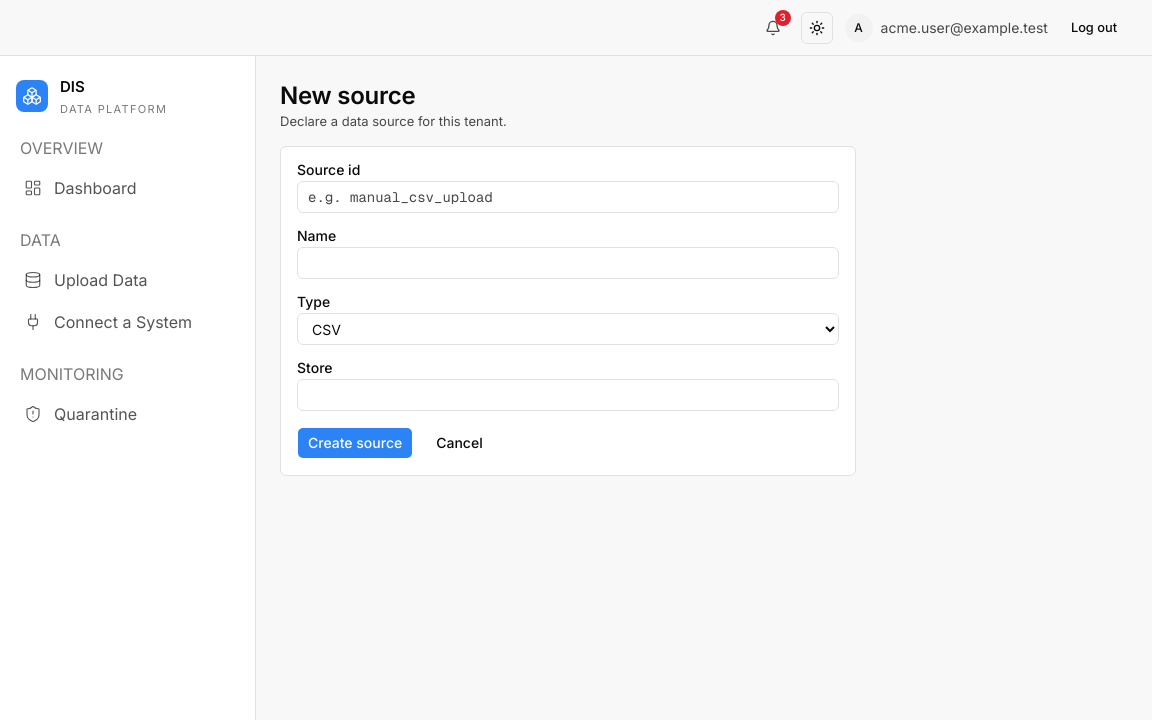
Scenario: SourceCreate › creates a source and the index reflects it
Expected: the heading "New source" is shown, [280, 81, 416, 110]
Type "square_pos" into the field labelled "Source id".
click(568, 197); type("square_pos")  # box [297, 181, 839, 213]
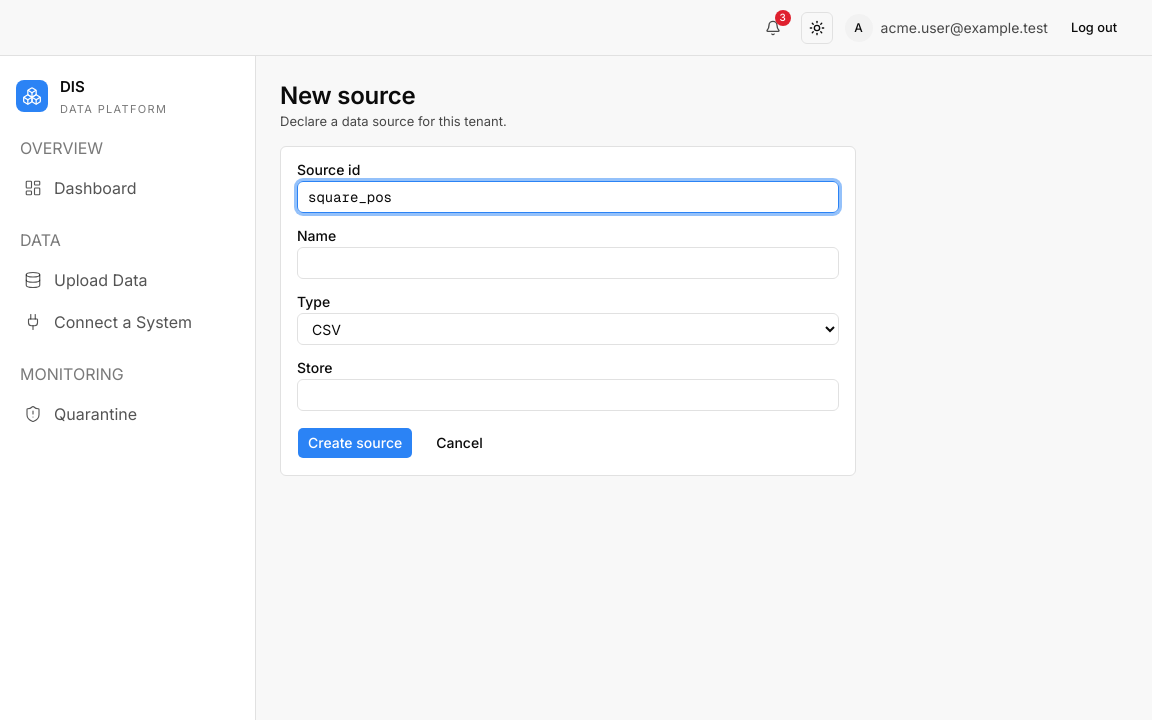
Type "Square POS" into the field labelled "Name".
click(568, 263); type("Square POS")  # box [297, 247, 839, 279]
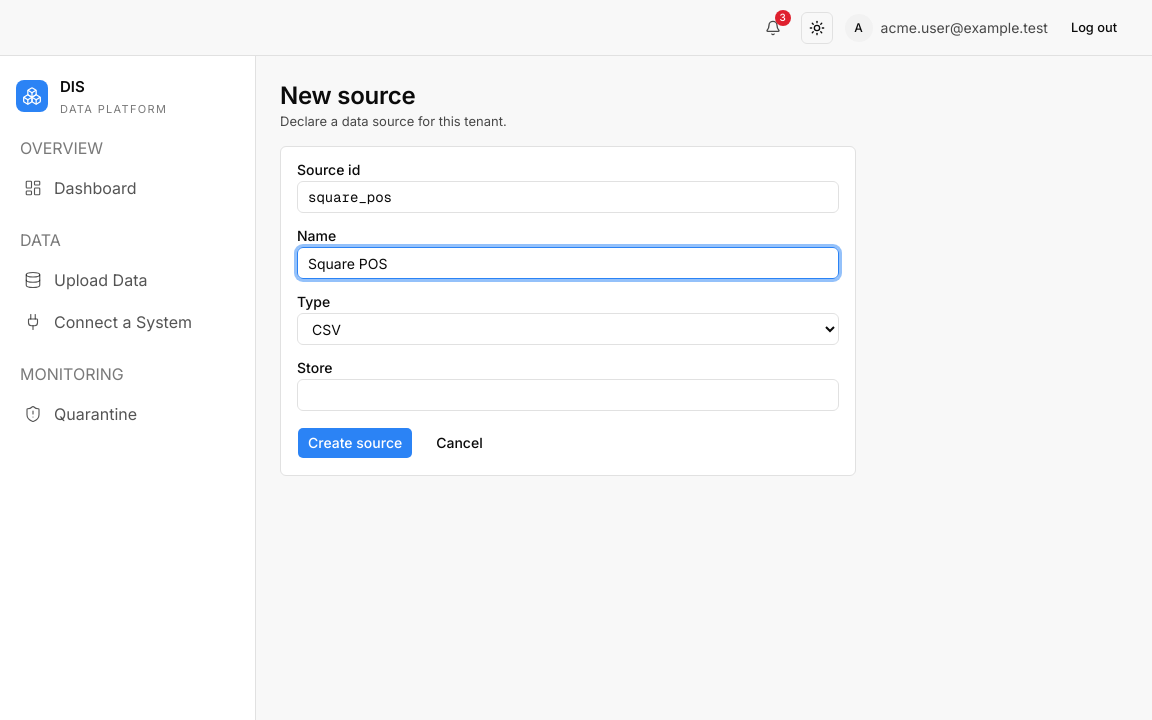
Click the button "Create source".
click(355, 443)  # box [297, 427, 413, 459]
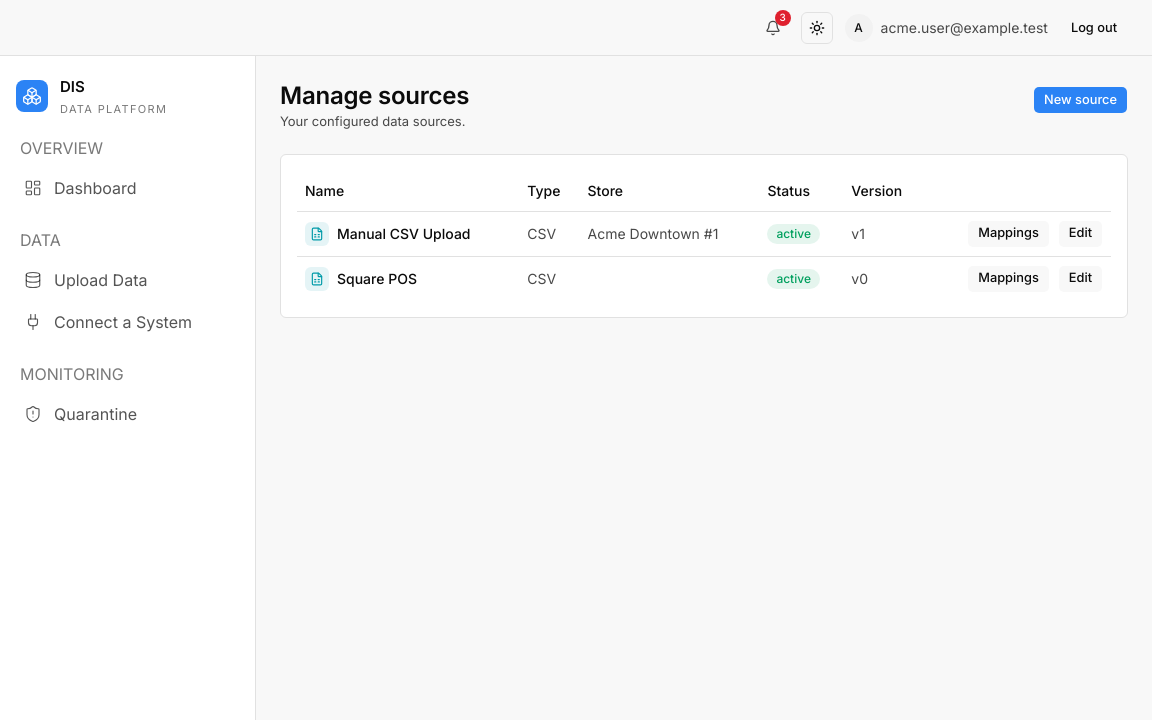
Now the heading "Manage sources" is shown, box [280, 80, 469, 112]
Now the text "Square POS" is shown, box [305, 266, 417, 290]
